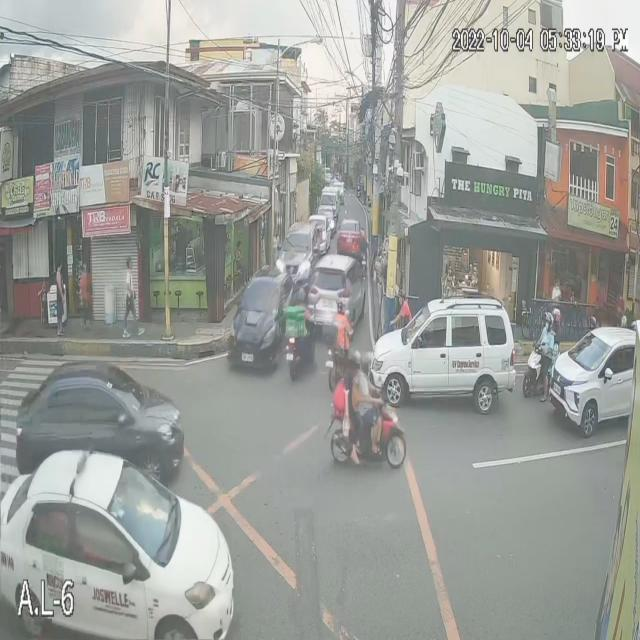Full-Faced: (549, 301, 563, 327)
Half-Faced: (543, 307, 555, 333)
